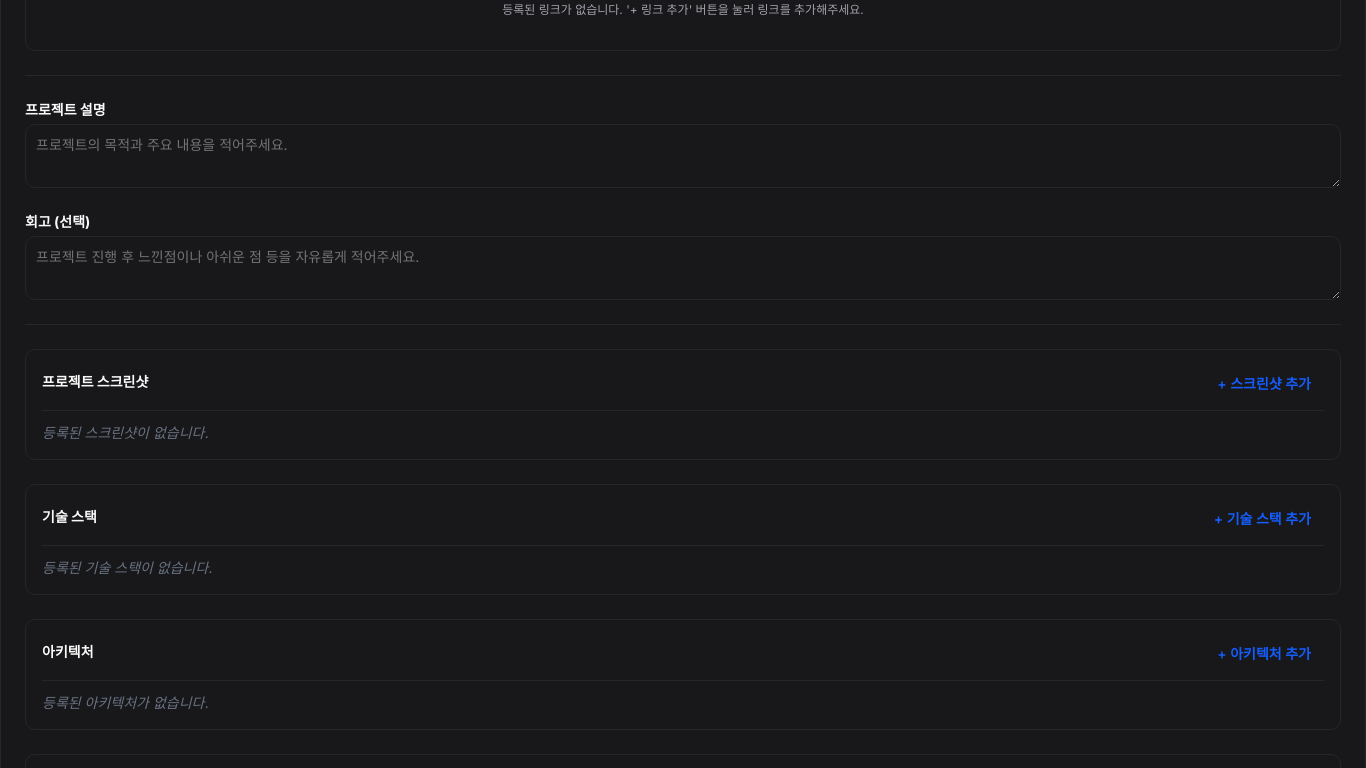
Scenario: ProjectForm 컴포넌트 › 스크린샷 항목 추가 버튼 클릭 시 새로운 스크린샷 이미지 업로드 필드가 렌더링되어야 한다
This screenshot has width=1366, height=768.
(page scrolled)
#  스크린샷 추가
Click the button "+ 스크린샷 추가" at [1264, 384], box [1204, 366, 1324, 402]
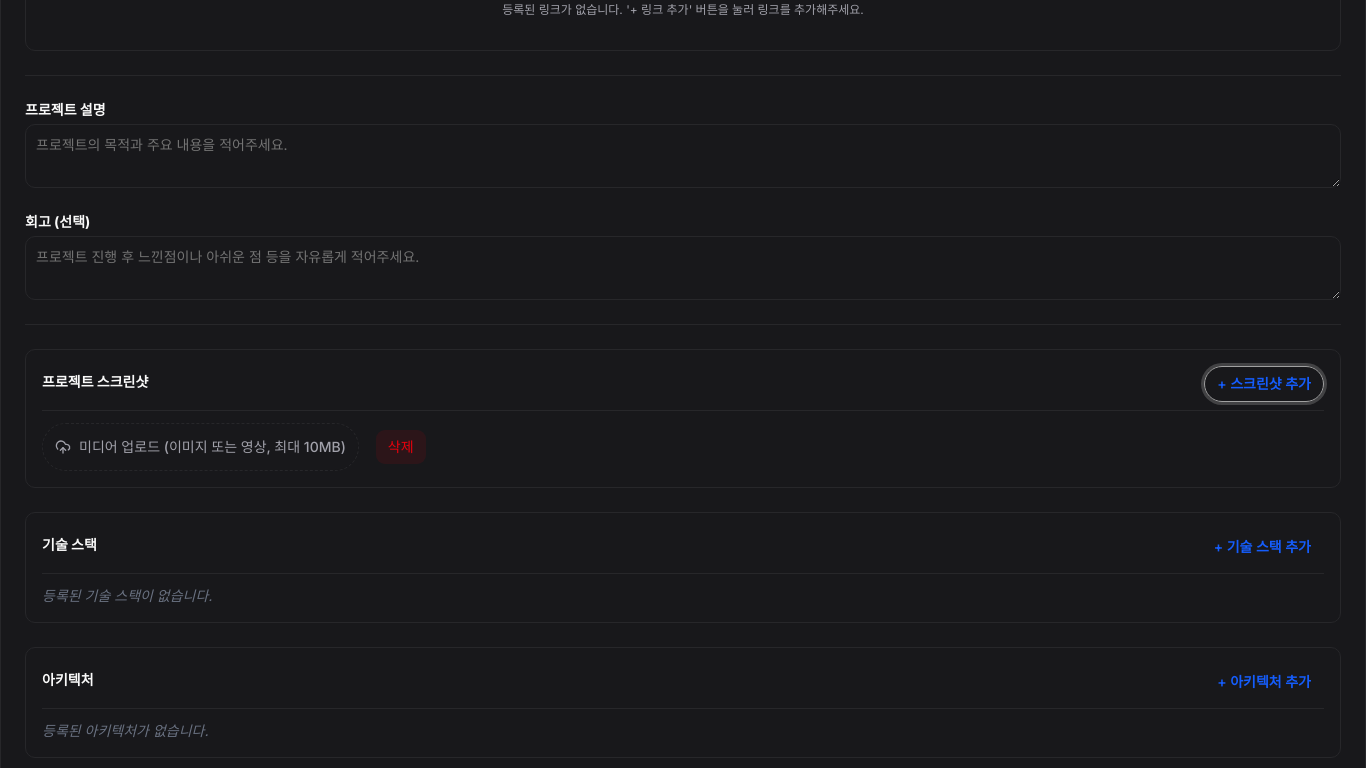
Now the number of buttons "미디어 업로드 (이미지 또는 영상, 최대 10MB)" is 1, box [42, 423, 359, 471]
